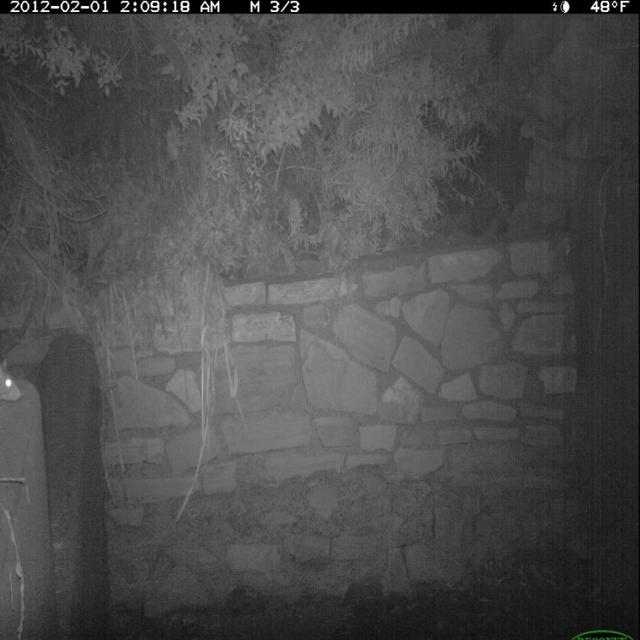rodent: (1, 359, 23, 406)
